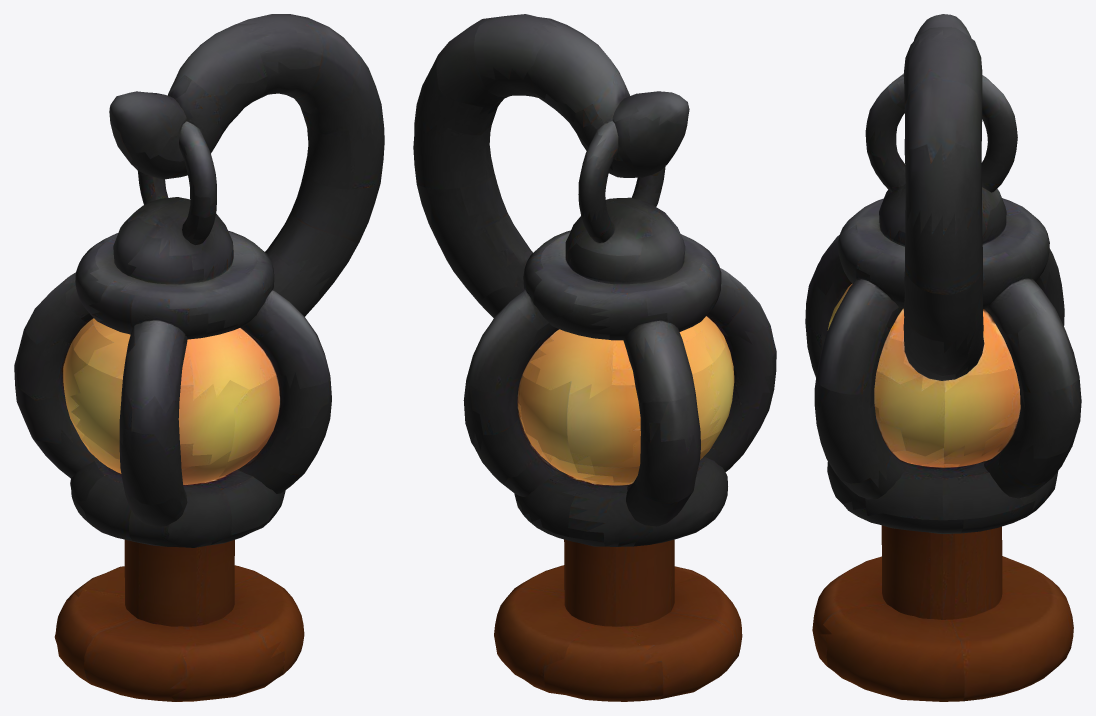
The model's file is la_farol.glb.
3 renders of one model, left to right at view 1: azimuth 30°, elevation 25°; view 2: azimuth 150°, elevation 25°; view 3: azimuth 270°, elevation 25°, orthographic. The views are drawn at different scales.
Size of the model in its own units: 0.5449 by 1 by 0.3828.
Materials: 1 (1 with a texture image).
